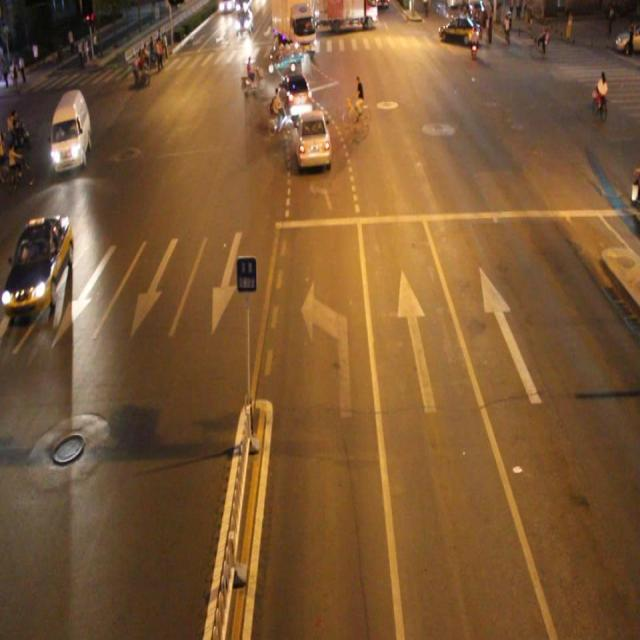car: (0, 215, 72, 315), (293, 108, 332, 171), (280, 71, 311, 120)
truck: (50, 89, 90, 172)
